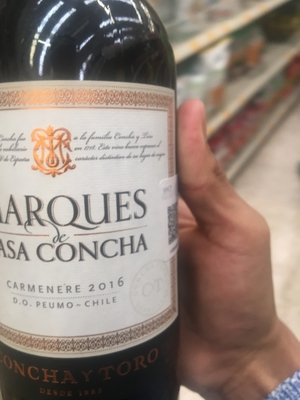marques de casa concha carmenere: (1, 10, 192, 400)
